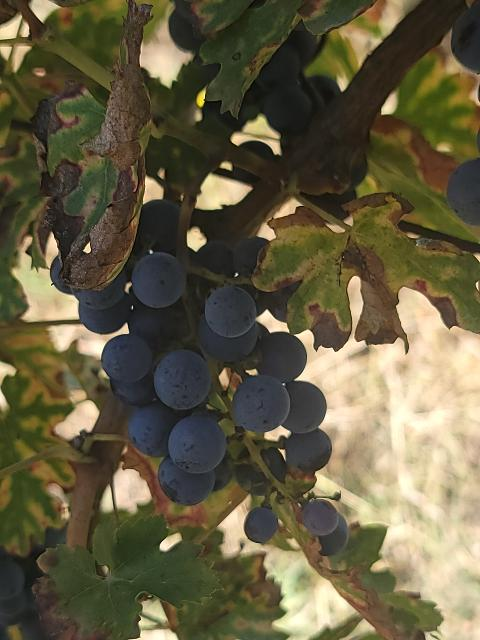grapes: (74, 200, 331, 505)
